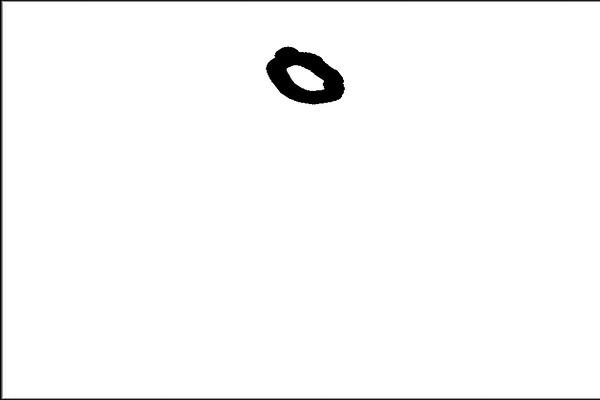O: (260, 40, 350, 116)
